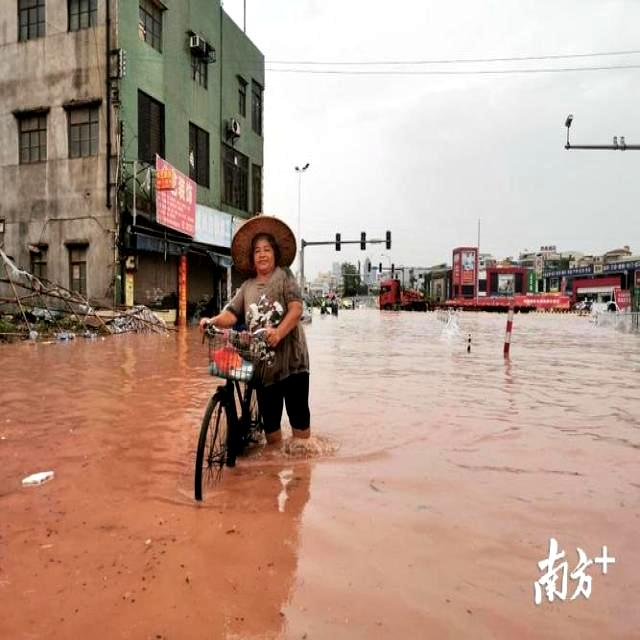civilian: (202, 227, 329, 469)
